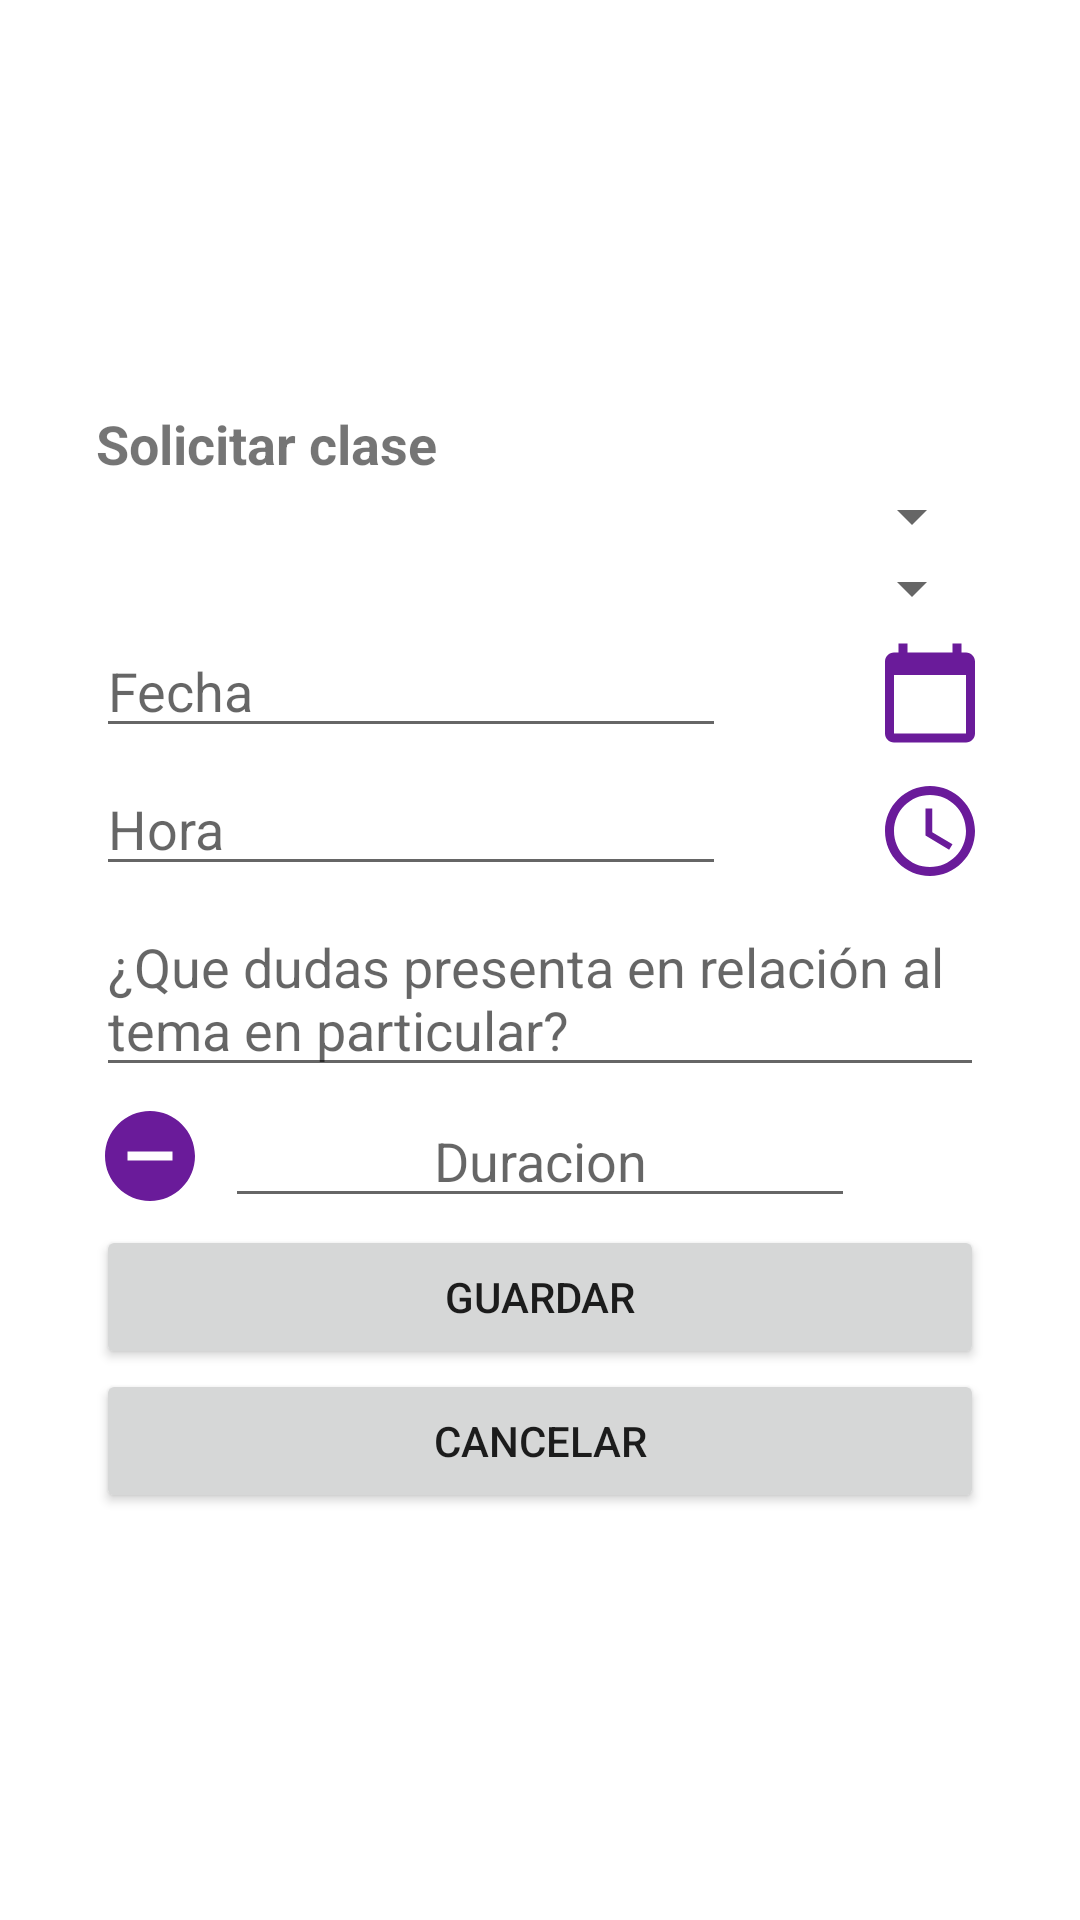

Point at icon controls on the screen. Image size 1080×1920, points as [x,y].
calendar today: [930,693]
remove circle: [150,1156]
schedule: [930,831]
